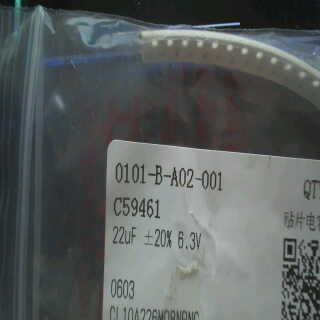22uF: (108, 221, 138, 252)
